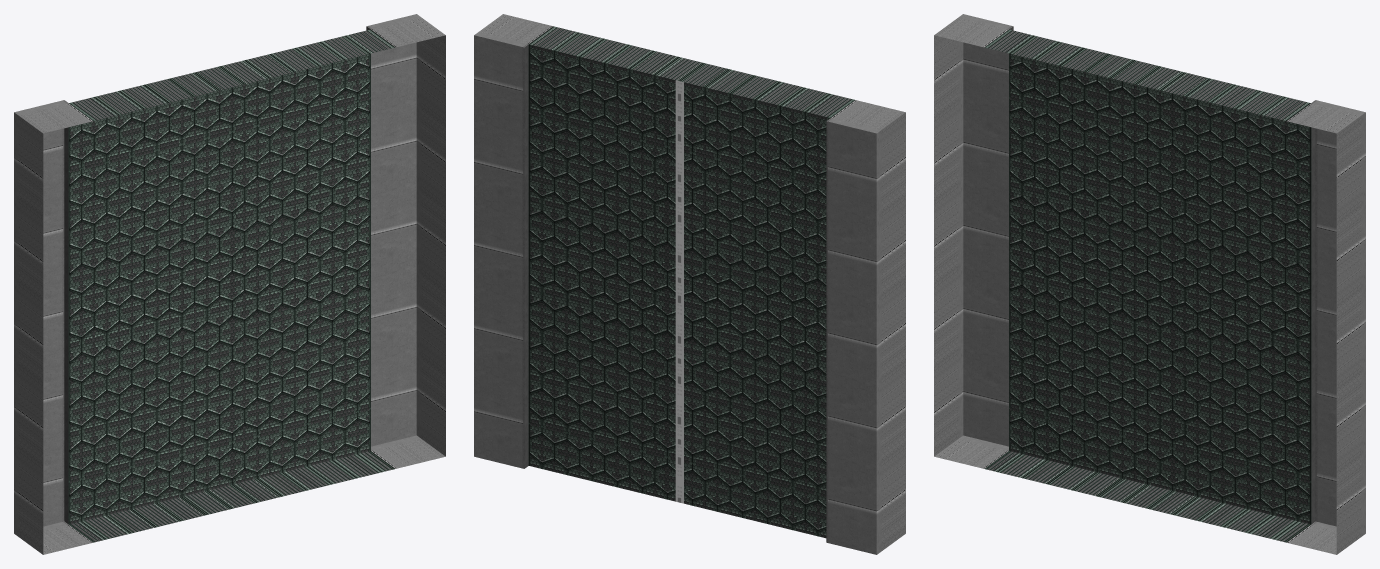
The model's file is TC_road_straight.fbx.
3 renders of one model, left to right at view 1: azimuth 30°, elevation 25°; view 2: azimuth 150°, elevation 25°; view 3: azimuth 330°, elevation 25°, orthographic.
Parts seen in each view (by area): view 1: TC_road_straight; view 2: TC_road_straight, light; view 3: TC_road_straight.
Part boxes in pixels (left/top/right/bottom): TC_road_straight: left=14, top=14, right=445, bottom=554; TC_road_straight: left=474, top=14, right=905, bottom=554; light: left=675, top=80, right=683, bottom=503; TC_road_straight: left=934, top=14, right=1365, bottom=554.
Bounding box in the file's own units: 8 × 8 × 1.
